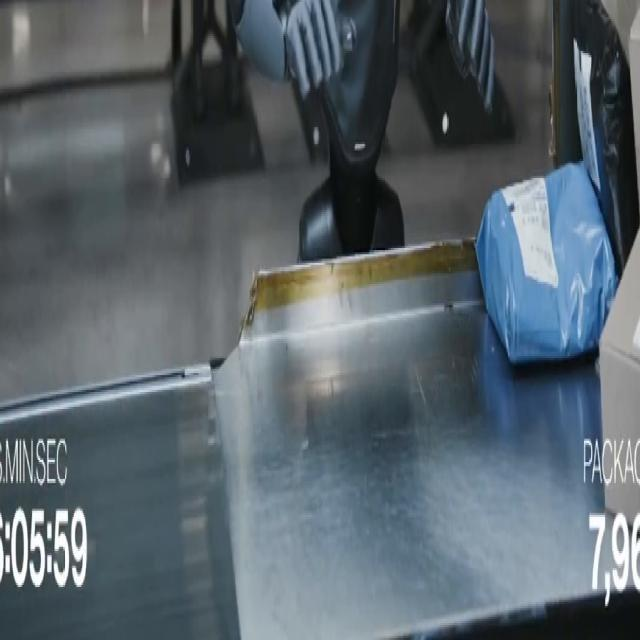package: (477, 164, 617, 364), (574, 0, 639, 275), (597, 238, 639, 525), (629, 9, 639, 122)
